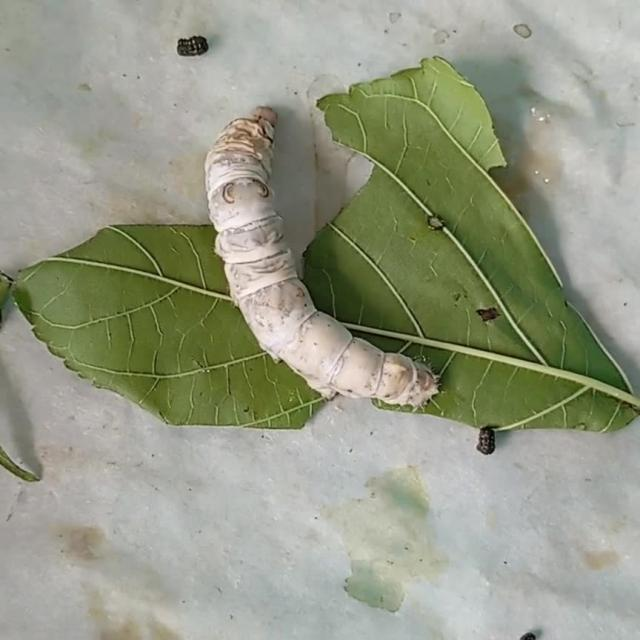Grasserie: (194, 88, 447, 411)
